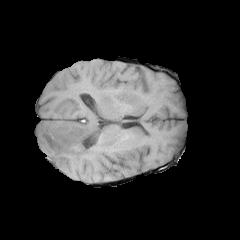glioma: (40, 123, 145, 170)
